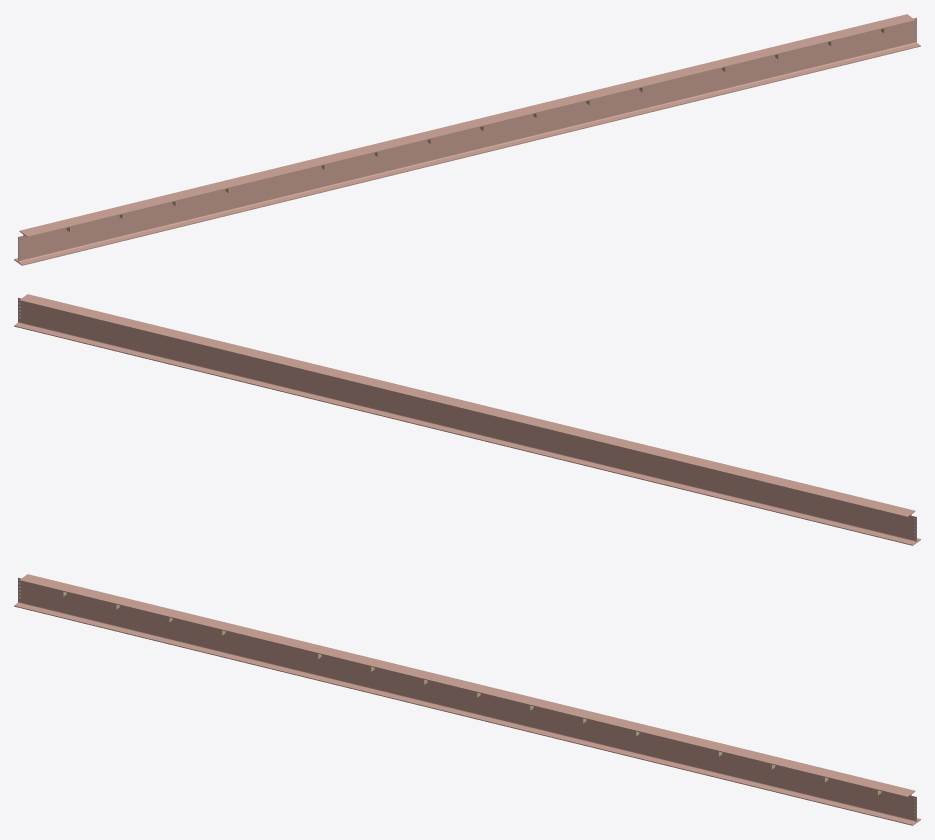
3 renders of one model, top to bottom at view 1: azimuth 30°, elevation 25°; view 2: azimuth 150°, elevation 25°; view 3: azimuth 330°, elevation 25°, orthographic.
Visible parts, largest first — view 1: product-960808ba-bad2-4563-aa68-b93c04f5f0b9-body; view 2: product-960808ba-bad2-4563-aa68-b93c04f5f0b9-body; view 3: product-960808ba-bad2-4563-aa68-b93c04f5f0b9-body.
Boxes of the visible parts, x1,y1,x2,y2 form: product-960808ba-bad2-4563-aa68-b93c04f5f0b9-body: (14, 14, 920, 265); product-960808ba-bad2-4563-aa68-b93c04f5f0b9-body: (14, 294, 920, 545); product-960808ba-bad2-4563-aa68-b93c04f5f0b9-body: (14, 574, 920, 825).
Bounding box in the file's own units: 20.69 × 0.6121 × 0.3251.
